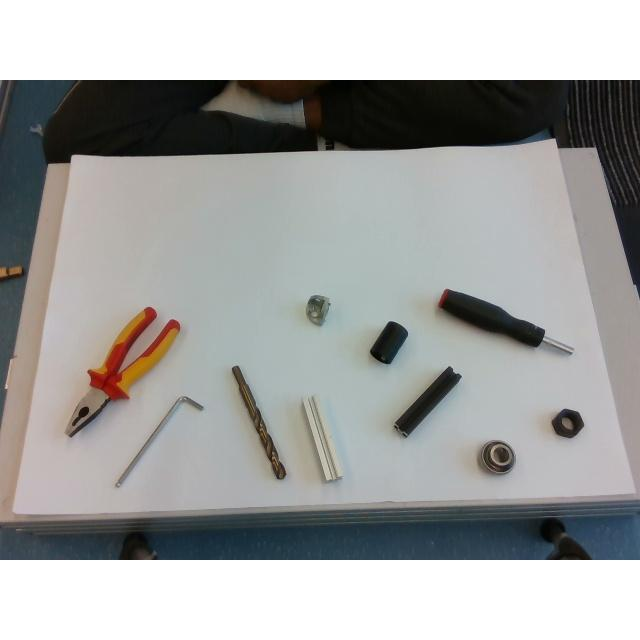Bearing2: (478, 440, 514, 474)
Drill: (232, 366, 286, 478)
F20_20_B: (394, 367, 462, 438)
F20_20_G: (302, 395, 342, 481)
M20: (551, 409, 583, 437)
